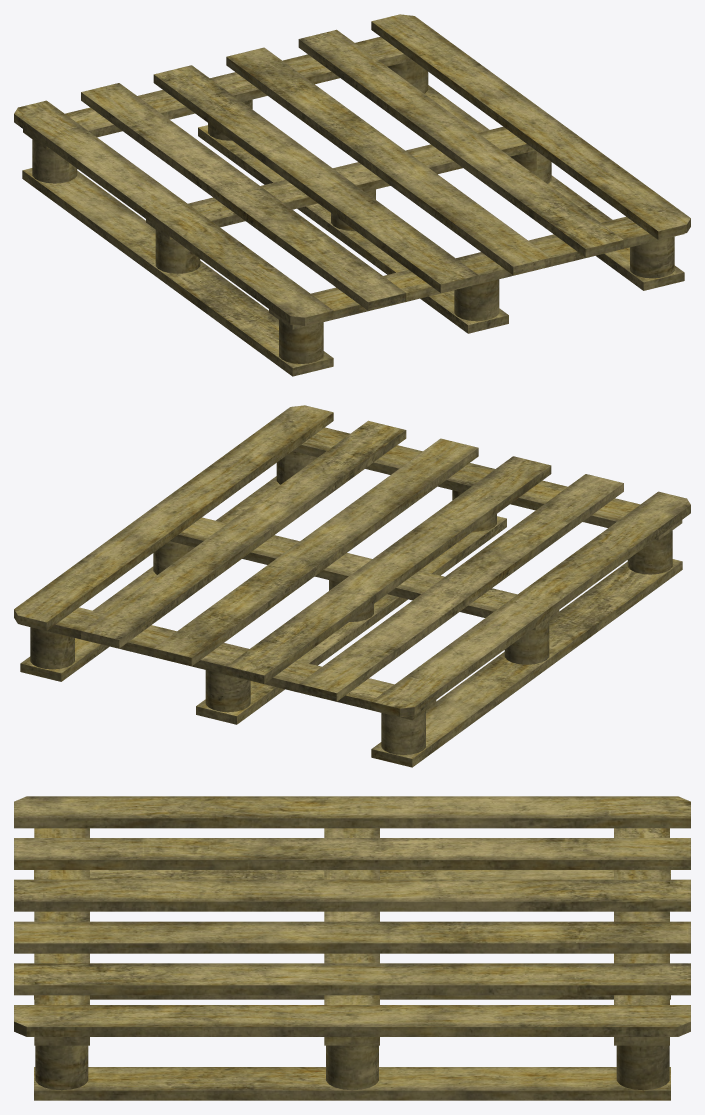
3 views of the same model, one above another, from view 1: azimuth 30°, elevation 25°; view 2: azimuth 150°, elevation 25°; view 3: azimuth 270°, elevation 25° (orthographic). The views are drawn at different scales.
Parts seen in each view (by area): view 1: desk_1_low, desk_3_low, desk_2_low, cylinders_low; view 2: desk_1_low, desk_3_low, desk_2_low, cylinders_low; view 3: desk_1_low, desk_3_low, desk_2_low, cylinders_low.
Part boxes in pixels (<box>): desk_1_low: <box>14,14,690,326</box>; desk_3_low: <box>22,85,684,376</box>; desk_2_low: <box>23,36,683,329</box>; cylinders_low: <box>32,60,674,363</box>; desk_1_low: <box>14,405,690,717</box>; desk_3_low: <box>20,476,682,767</box>; desk_2_low: <box>30,427,682,720</box>; cylinders_low: <box>30,451,672,754</box>; desk_1_low: <box>14,796,690,1036</box>; desk_3_low: <box>34,870,670,1100</box>; desk_2_low: <box>34,828,669,1045</box>; cylinders_low: <box>35,1045,669,1090</box>.
Bounding box in the file's own units: 1.29 × 0.1976 × 1.6.
Materials: 1 (1 with a texture image).
